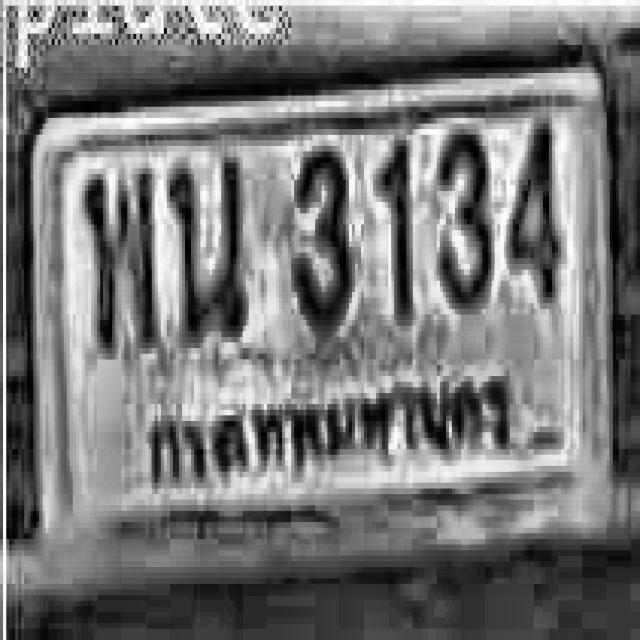license-plate: (20, 55, 622, 586)
